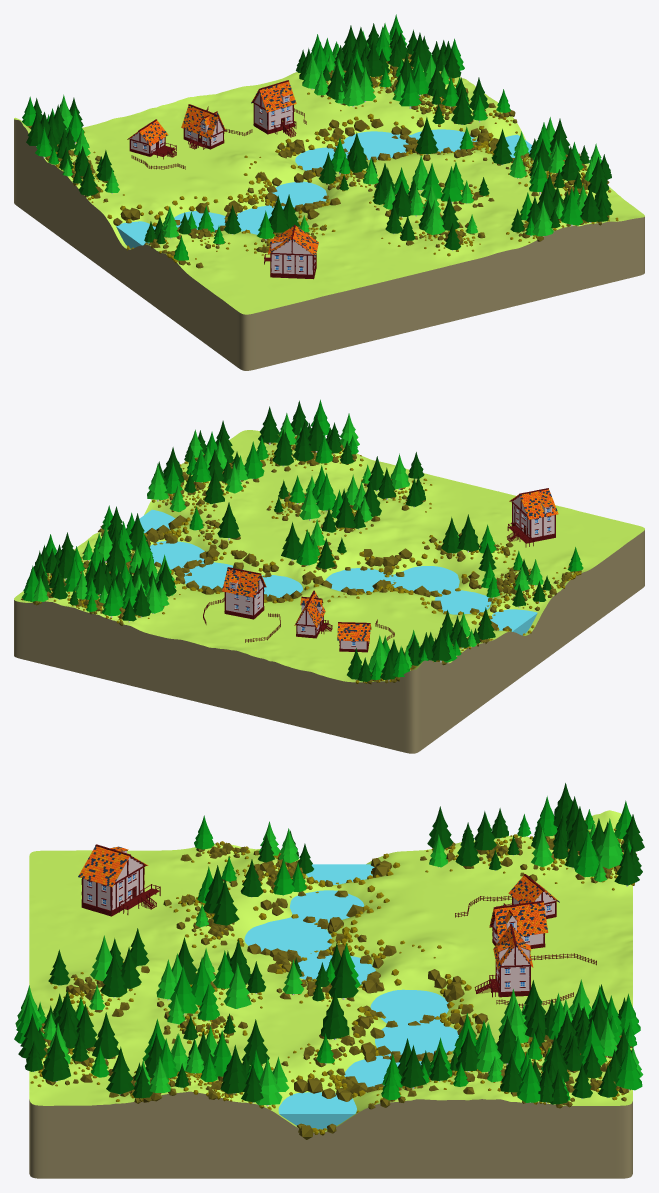
File: low-poly_nature_scene.glb
3 views of the same model, one above another, from view 1: azimuth 30°, elevation 25°; view 2: azimuth 150°, elevation 25°; view 3: azimuth 270°, elevation 25° (orthographic). The views are drawn at different scales.
Parts seen in each view (by area): view 1: Terrain_Terrain_0_39, Terrain_default_material_0_38, Trees_Green2_0_42, Trees_Green3_0_43, Rocks_Stone_0_36, Trees_Green_0_44, Terrain_Water1_0_40, Rocks_Stone1_0_34, Rocks_Stone1_0.001_35, House3_Wall_0_23, House3_Wood_0_24, House4_Wall_0_31 (+6 smaller); view 2: Terrain_Terrain_0_39, Terrain_default_material_0_38, Trees_Green2_0_42, Trees_Green3_0_43, Rocks_Stone_0_36, Trees_Green_0_44, Terrain_Water1_0_40, Rocks_Stone1_0_34, Rocks_Stone1_0.001_35, House3_Wood_0_24, House3_Wall_0_23, House4_Wall_0_31 (+3 smaller); view 3: Terrain_Terrain_0_39, Terrain_default_material_0_38, Trees_Green2_0_42, Trees_Green3_0_43, Rocks_Stone_0_36, Terrain_Water1_0_40, Trees_Green_0_44, Rocks_Stone1_0_34, Rocks_Stone1_0.001_35, House3_Wood_0_24, House3_Wall_0_23, House4_Wall_0_31 (+4 smaller).
Part boxes in pixels (left/top/right/bottom): Terrain_Terrain_0_39: left=14, top=59, right=644, bottom=314; Terrain_default_material_0_38: left=14, top=119, right=644, bottom=370; Trees_Green2_0_42: left=26, top=23, right=612, bottom=249; Trees_Green3_0_43: left=22, top=14, right=583, bottom=260; Rocks_Stone_0_36: left=28, top=45, right=609, bottom=268; Trees_Green_0_44: left=48, top=23, right=601, bottom=237; Terrain_Water1_0_40: left=116, top=129, right=531, bottom=248; Rocks_Stone1_0_34: left=47, top=53, right=618, bottom=263; Rocks_Stone1_0.001_35: left=27, top=61, right=618, bottom=262; House3_Wall_0_23: left=271, top=240, right=315, bottom=274; House3_Wood_0_24: left=264, top=224, right=316, bottom=279; House4_Wall_0_31: left=254, top=92, right=292, bottom=129; Terrain_Terrain_0_39: left=14, top=430, right=644, bottom=682; Terrain_default_material_0_38: left=14, top=530, right=644, bottom=753; Trees_Green2_0_42: left=24, top=400, right=551, bottom=681; Trees_Green3_0_43: left=21, top=399, right=583, bottom=680; Rocks_Stone_0_36: left=21, top=442, right=581, bottom=684; Trees_Green_0_44: left=33, top=413, right=543, bottom=673; Terrain_Water1_0_40: left=139, top=509, right=537, bottom=635; Rocks_Stone1_0_34: left=33, top=435, right=581, bottom=683; Rocks_Stone1_0.001_35: left=48, top=436, right=576, bottom=683; House3_Wood_0_24: left=507, top=488, right=555, bottom=547; House3_Wall_0_23: left=513, top=496, right=554, bottom=537; House4_Wall_0_31: left=226, top=579, right=262, bottom=615; Terrain_Terrain_0_39: left=29, top=810, right=632, bottom=1132; Terrain_default_material_0_38: left=29, top=1091, right=632, bottom=1178; Trees_Green2_0_42: left=18, top=783, right=644, bottom=1104; Trees_Green3_0_43: left=14, top=796, right=642, bottom=1102; Rocks_Stone_0_36: left=40, top=834, right=636, bottom=1139; Terrain_Water1_0_40: left=244, top=864, right=458, bottom=1129; Trees_Green_0_44: left=15, top=814, right=643, bottom=1105; Rocks_Stone1_0_34: left=30, top=830, right=624, bottom=1132; Rocks_Stone1_0.001_35: left=37, top=820, right=634, bottom=1135; House3_Wood_0_24: left=81, top=844, right=160, bottom=916; House3_Wall_0_23: left=83, top=851, right=142, bottom=910; House4_Wall_0_31: left=496, top=946, right=529, bottom=991.
Size of the model in its own units: 18.77 by 4.65 by 18.79.
